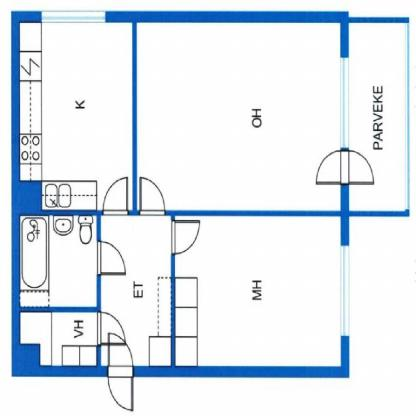door: (107, 332, 136, 415), (97, 241, 130, 281), (137, 176, 168, 218), (343, 149, 376, 188), (313, 149, 344, 187), (94, 311, 126, 346), (170, 221, 201, 256), (105, 178, 127, 215)
window: (338, 244, 351, 336), (40, 11, 105, 24), (340, 59, 348, 150)
zone: (138, 22, 341, 209), (176, 214, 342, 366), (20, 19, 132, 211), (347, 24, 406, 214), (100, 213, 170, 366), (18, 214, 97, 309), (20, 310, 96, 365)
